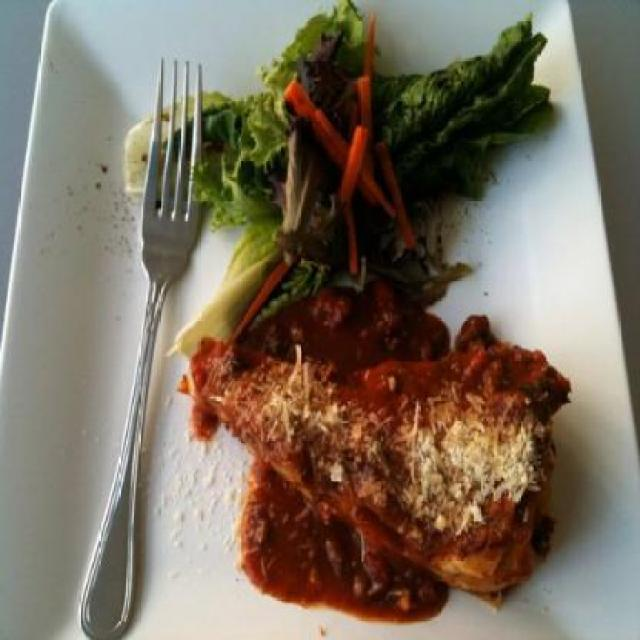Lasagna: (196, 325, 579, 613)
